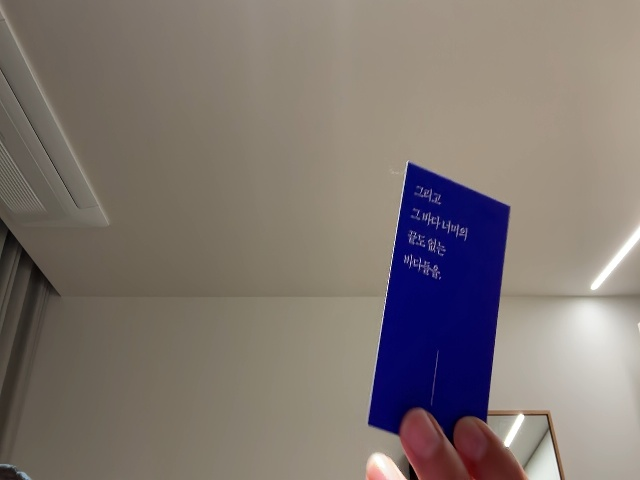card: (366, 159, 513, 463)
